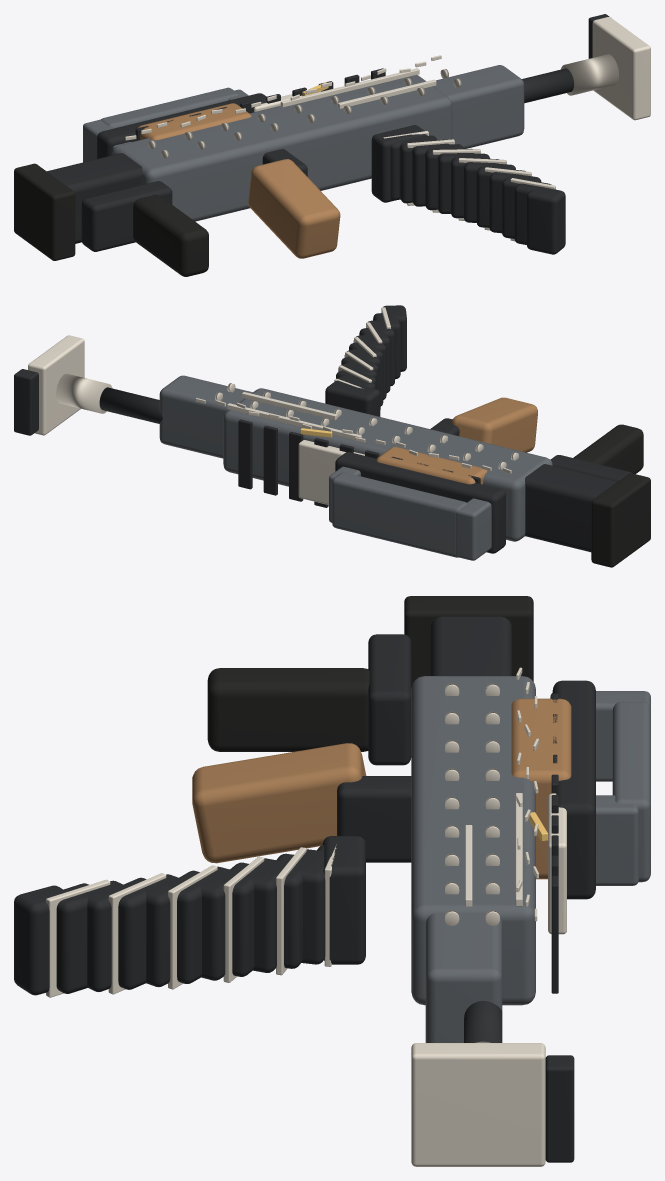
File: groza_procedural_candidate.glb
3 renders of one model, top to bottom at view 1: azimuth 30°, elevation 25°; view 2: azimuth 150°, elevation 25°; view 3: azimuth 270°, elevation 25°, orthographic. The views are drawn at different scales.
Visible parts, largest first — view 1: receiver_main, wood_pistol_grip, front_handguard, rubber_butt_pad, front_vertical_grip, front_sight_block, front_grip_crossbar, rear_stock_body, curved_mag_segment_11, carry_handle_bridge, wood_handguard_insert, magazine_well (+18 smaller); view 2: receiver_main, carry_handle_bridge, rear_stock_body, front_handguard, rubber_butt_pad, top_cover, wood_pistol_grip, front_sight_block, front_vertical_grip, rear_sight_rail, carry_handle_rear_post, wood_handguard_insert (+16 smaller); view 3: receiver_main, front_sight_block, wood_pistol_grip, front_vertical_grip, front_handguard, top_cover, front_grip_crossbar, wood_handguard_insert, trigger_guard, rubber_butt_pad, carry_handle_bridge, rear_stock_body (+24 smaller).
Part boxes in pixels (x1,y1,x2,y2): receiver_main: (112,75,452,221); wood_pistol_grip: (248,159,340,258); front_handguard: (433,65,524,148); rubber_butt_pad: (14,163,75,260); front_vertical_grip: (133,195,208,276); front_sight_block: (592,17,650,120); front_grip_crossbar: (81,181,172,251); rear_stock_body: (47,153,142,243); curved_mag_segment_11: (526,186,565,254); carry_handle_bridge: (100,87,238,128); wood_handguard_insert: (138,103,251,140); magazine_well: (371,125,427,202); receiver_main: (223,388,552,541); carry_handle_bridge: (332,472,467,557); rear_stock_body: (525,464,617,552); front_handguard: (159,375,252,458); rubber_butt_pad: (591,473,650,567); top_cover: (335,452,505,553); wood_pistol_grip: (451,397,537,452); front_sight_block: (28,335,84,435); front_vertical_grip: (573,424,643,473); rear_sight_rail: (298,440,364,504); carry_handle_rear_post: (456,498,491,560); wood_handguard_insert: (376,447,487,484); receiver_main: (411,676,535,1005); front_sight_block: (411,1043,545,1166); wood_pistol_grip: (192,743,366,863); front_vertical_grip: (207,668,369,751); front_handguard: (425,912,502,1042); top_cover: (552,680,595,899); front_grip_crossbar: (368,634,411,765); wood_handguard_insert: (511,698,571,879); trigger_guard: (337,776,411,862); rubber_butt_pad: (404,596,533,688); carry_handle_bridge: (612,702,650,882); rear_stock_body: (430,616,511,675).
Size of what is drawn, in the model's own units: 4.64 by 0.5505 by 2.66.
